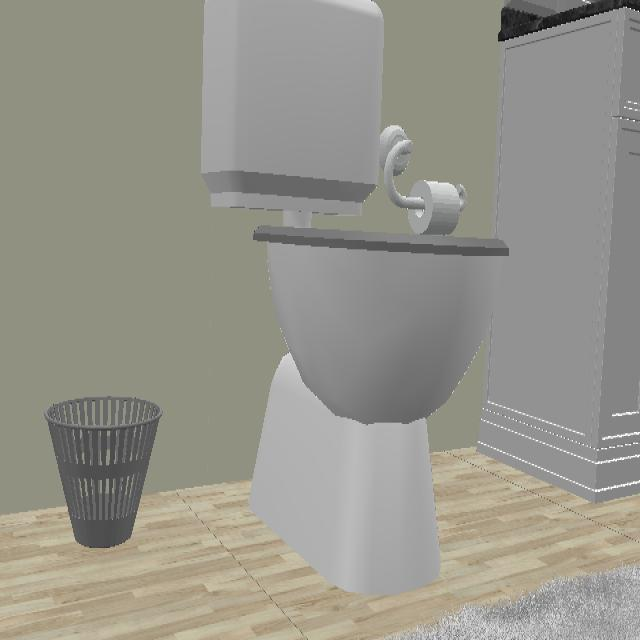cabinet: (474, 5, 638, 505)
toilet: (201, 0, 509, 597)
